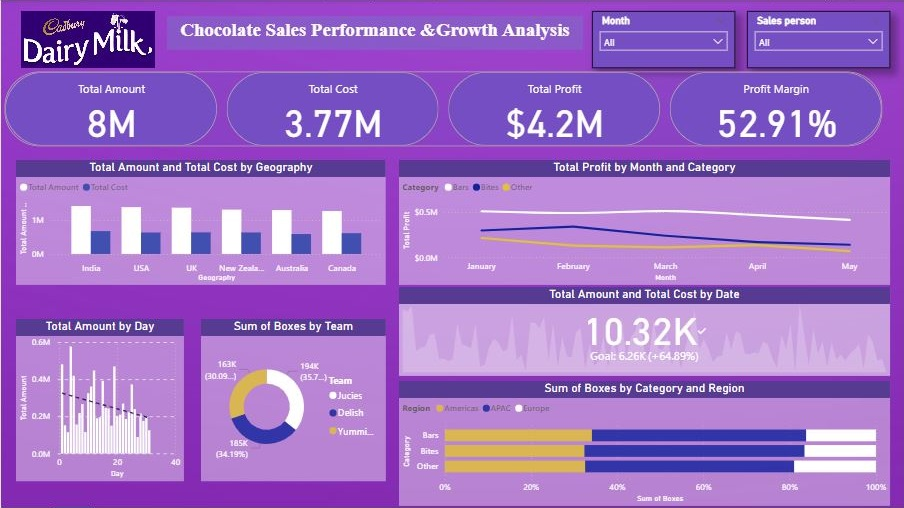

This screenshot's page, from the dashboard's own definition file:
{"tool":"powerbi","page":{"name":"cadbury","canvas":[1280,720],"ordinal":0},"visuals":[{"type":"textbox","box":[235.3,22.7,589.6,48.2],"z":0},{"type":"slicer","fields":{"Values":["sales5.Date.Variation.Date Hierarchy.Month"]},"box":[837.6,15.6,202.7,80.8],"z":1000},{"type":"slicer","fields":{"Values":["people.Sales person"]},"box":[1057.3,15.6,202.7,80.8],"z":2000},{"type":"image","box":[21.3,1.4,204.1,109.1],"z":3000},{"type":"clusteredColumnChart","fields":{"Y":["sales5.Total Amount","sales5.Total Cost"],"Category":["sales5.Geography"]},"box":[21.3,226.8,524.4,177.2],"z":4000},{"type":"lineChart","fields":{"Series":["products.Category"],"Category":["sales5.Date.Variation.Date Hierarchy.Month"],"Y":["sales5.Total Profit"]},"box":[564.1,226.8,695.9,177.2],"z":5000},{"type":"hundredPercentStackedBarChart","fields":{"Category":["products.Category"],"Y":["Sum(sales5.Boxes)"],"Series":["locations.Region"]},"box":[564.1,540,695.9,177.2],"z":6000},{"type":"donutChart","fields":{"Category":["people.Team"],"Y":["Sum(sales5.Boxes)"]},"box":[283.5,452.1,262.2,229.6],"z":7000},{"type":"kpi","fields":{"Indicator":["sales5.Total Amount"],"TrendLine":["sales5.Date"],"Goal":["sales5.Total Cost"]},"box":[564.1,406.8,695.9,126.1],"z":8000},{"type":"clusteredColumnChart","fields":{"Category":["sales5.Date.Variation.Date Hierarchy.Day"],"Y":["sales5.Total Amount"]},"box":[21.3,452.1,238.1,229.6],"z":9000},{"type":"cardVisual","fields":{"Data":["sales5.Total Amount","sales5.Total Cost","sales5.Total Profit","sales5.Profit Margin"]},"box":[0,96.4,1254.3,116.2],"z":10000}]}

Visuals, with their boxes in screenshot pixels (x1, y1, x2, y2), scaled from the page's 1280x720 canvas onto the 904x508 screenshot:
textbox: (left=166, top=16, right=583, bottom=50)
slicer - sales5.Date.Variation.Date Hierarchy.Month: (left=592, top=11, right=735, bottom=68)
slicer - people.Sales person: (left=747, top=11, right=890, bottom=68)
image: (left=15, top=1, right=159, bottom=78)
clusteredColumnChart - sales5.Total Amount x sales5.Total Cost: (left=15, top=160, right=385, bottom=285)
lineChart - products.Category x sales5.Date.Variation.Date Hierarchy.Month: (left=398, top=160, right=890, bottom=285)
hundredPercentStackedBarChart - products.Category x Sum(sales5.Boxes): (left=398, top=381, right=890, bottom=506)
donutChart - people.Team x Sum(sales5.Boxes): (left=200, top=319, right=385, bottom=481)
kpi - sales5.Total Amount x sales5.Date: (left=398, top=287, right=890, bottom=376)
clusteredColumnChart - sales5.Date.Variation.Date Hierarchy.Day x sales5.Total Amount: (left=15, top=319, right=183, bottom=481)
cardVisual - sales5.Total Amount x sales5.Total Cost: (left=0, top=68, right=886, bottom=150)
